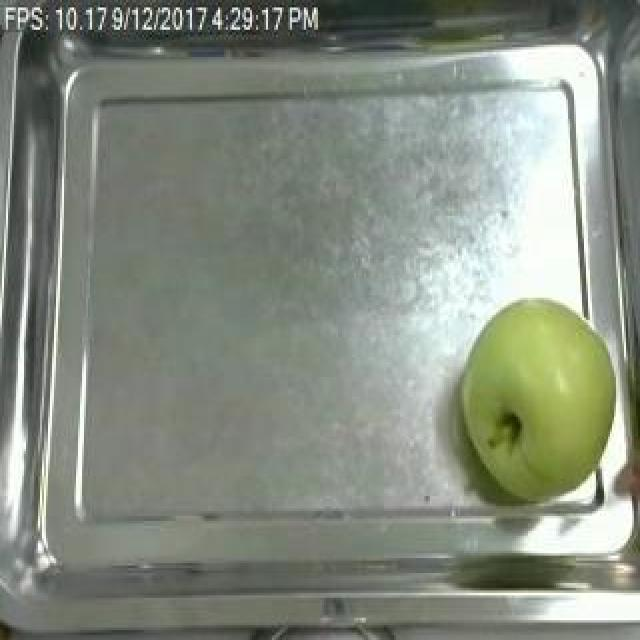Rotten Apple: (442, 284, 624, 520)
